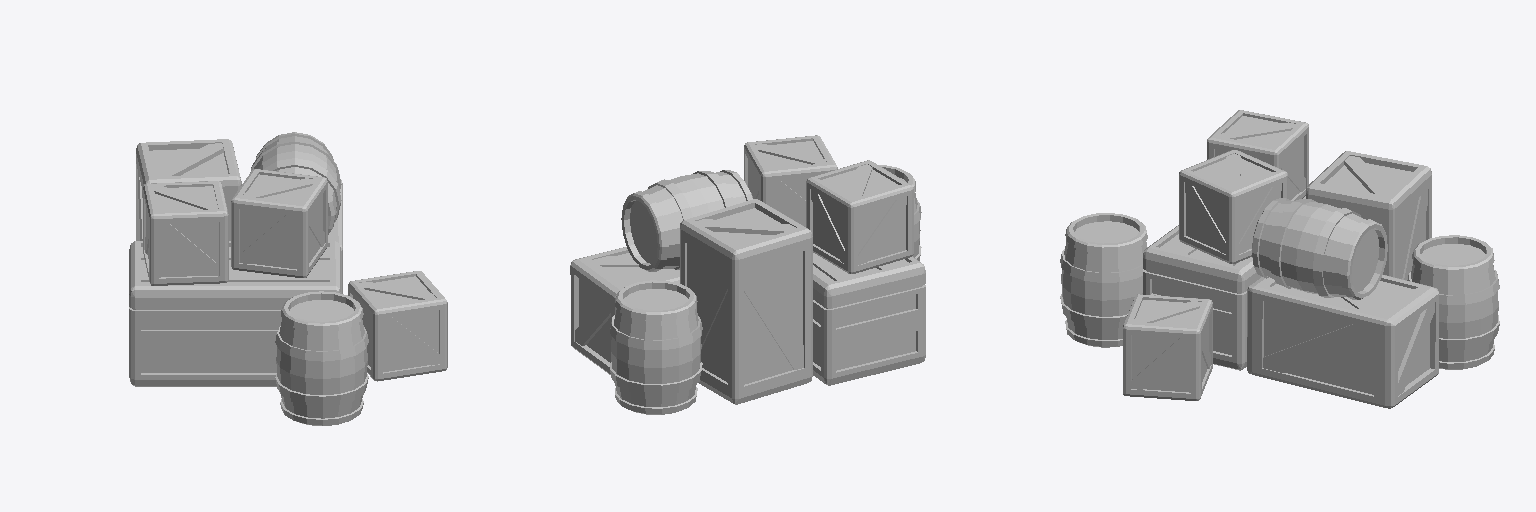
File: crates_merged_1.obj
The picture shows the model from 3 angles: view 1: azimuth 30°, elevation 25°; view 2: azimuth 150°, elevation 25°; view 3: azimuth 270°, elevation 25°; orthographic projection.
Parts seen in each view (by area): view 1: cratemerged1_crates_0; view 2: cratemerged1_crates_0; view 3: cratemerged1_crates_0.
Boxes of the visible parts, x1=… form: cratemerged1_crates_0: x1=129, y1=132, x2=447, y2=425; cratemerged1_crates_0: x1=570, y1=135, x2=925, y2=414; cratemerged1_crates_0: x1=1060, y1=110, x2=1499, y2=408.
Bounding box in the file's own units: 37.83 × 22.05 × 50.92.